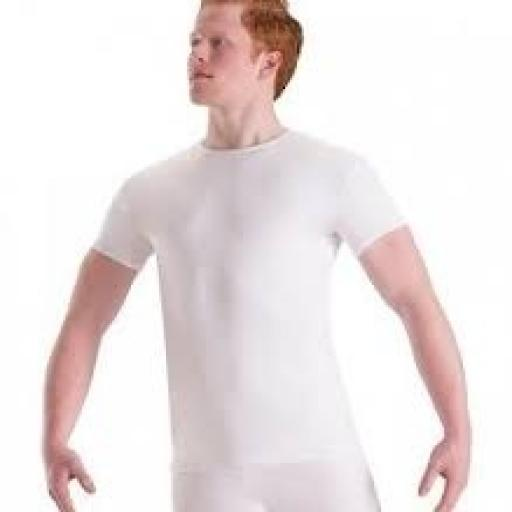dancing: (37, 0, 477, 510)
